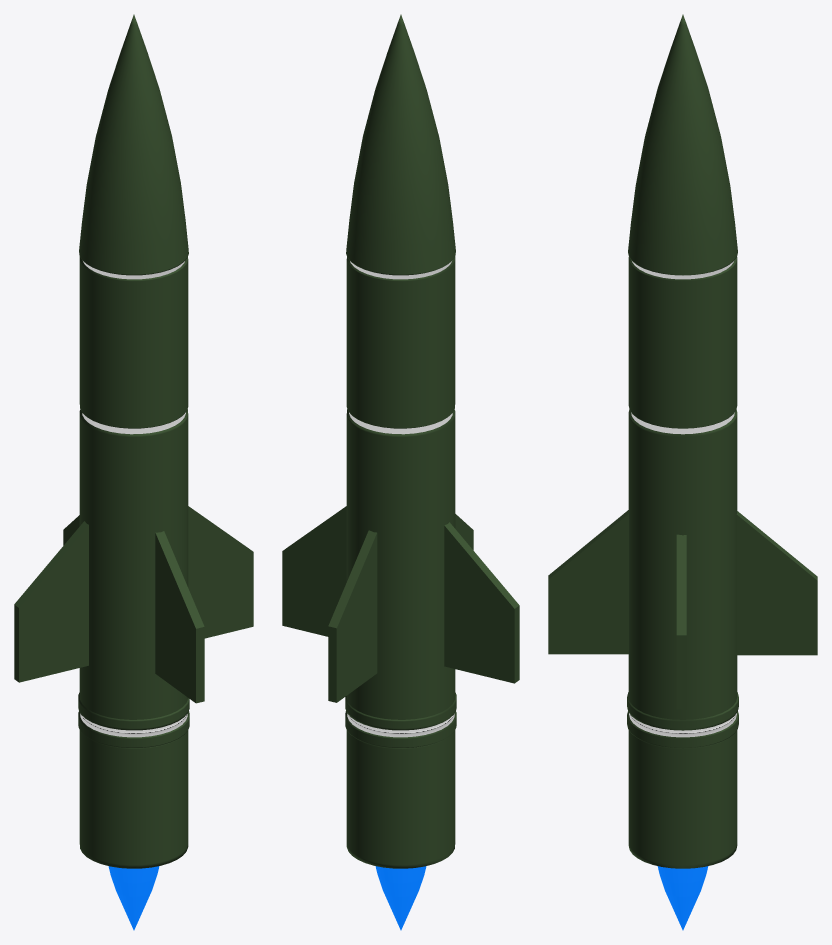
The model's file is missile.glb.
The picture shows the model from 3 angles, left to right: view 1: azimuth 30°, elevation 25°; view 2: azimuth 150°, elevation 25°; view 3: azimuth 270°, elevation 25°; orthographic projection.
Visible parts, largest first — view 1: Cube.002, Cylinder.005, Cone; view 2: Cube.002, Cylinder.005, Cone; view 3: Cube.002, Cylinder.005, Cone.
Part boxes in pixels (bbox=[...]): Cube.002: bbox=[14, 14, 253, 868]; Cylinder.005: bbox=[80, 261, 187, 737]; Cone: bbox=[108, 866, 159, 930]; Cube.002: bbox=[282, 14, 519, 868]; Cylinder.005: bbox=[347, 261, 454, 737]; Cone: bbox=[375, 866, 426, 930]; Cube.002: bbox=[548, 14, 817, 868]; Cylinder.005: bbox=[629, 261, 736, 737]; Cone: bbox=[657, 866, 708, 930].
Size of the model in its own units: 5.1 by 19.14 by 5.1.
